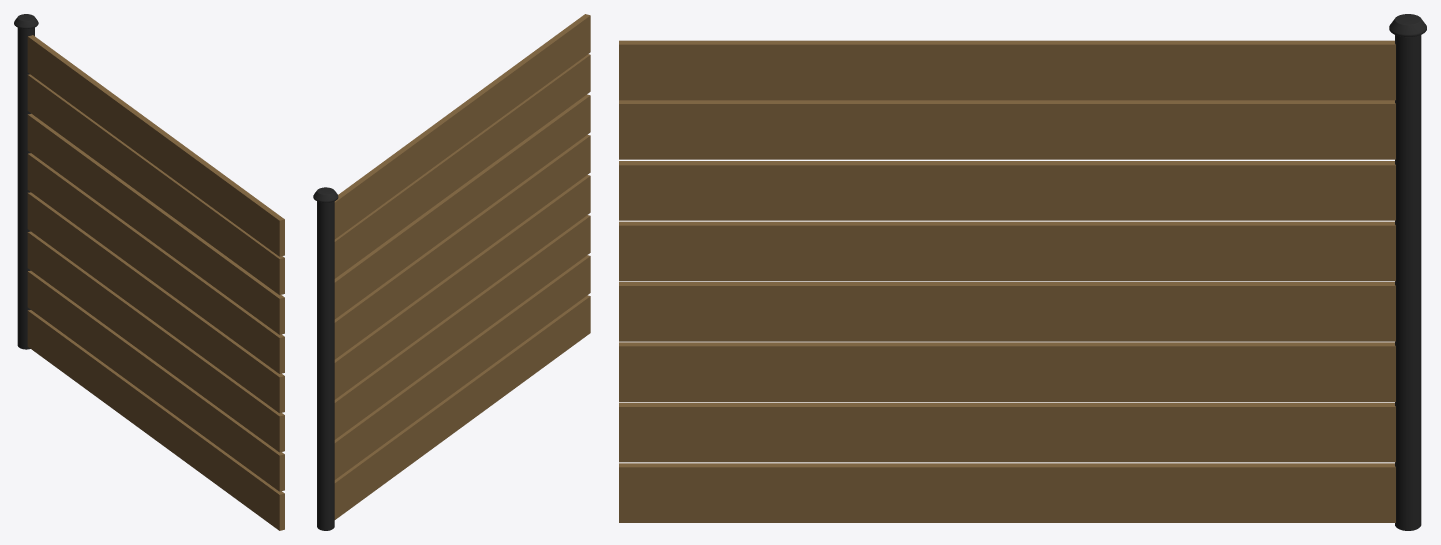
File: FenceEnd.fbx
The picture shows the model from 3 angles, left to right: view 1: azimuth 30°, elevation 25°; view 2: azimuth 150°, elevation 25°; view 3: azimuth 270°, elevation 25°; orthographic projection. The views are drawn at different scales.
Parts seen in each view (by area): view 1: Fence2:pasted__TallFence_Endgroup5; view 2: Fence2:pasted__TallFence_Endgroup5; view 3: Fence2:pasted__TallFence_Endgroup5.
Boxes of the visible parts, bbox=[...] form: Fence2:pasted__TallFence_Endgroup5: bbox=[14, 14, 284, 530]; Fence2:pasted__TallFence_Endgroup5: bbox=[313, 14, 590, 530]; Fence2:pasted__TallFence_Endgroup5: bbox=[619, 14, 1426, 530].
Size of the model in its own units: 0.9958 by 14.86 by 21.46.
